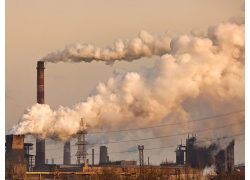dust: (5, 91, 96, 143), (33, 32, 128, 65)
